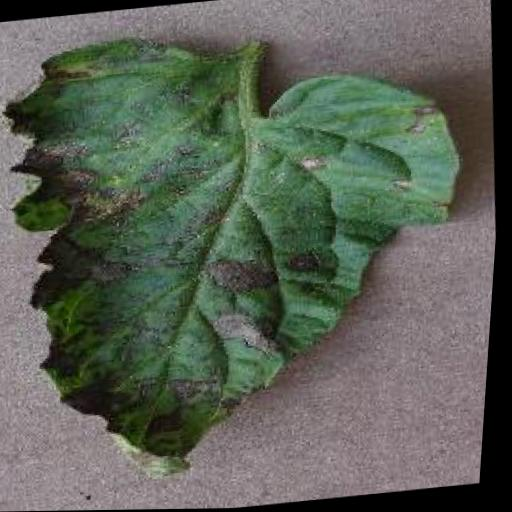Early Blight: (0, 0, 497, 499)
